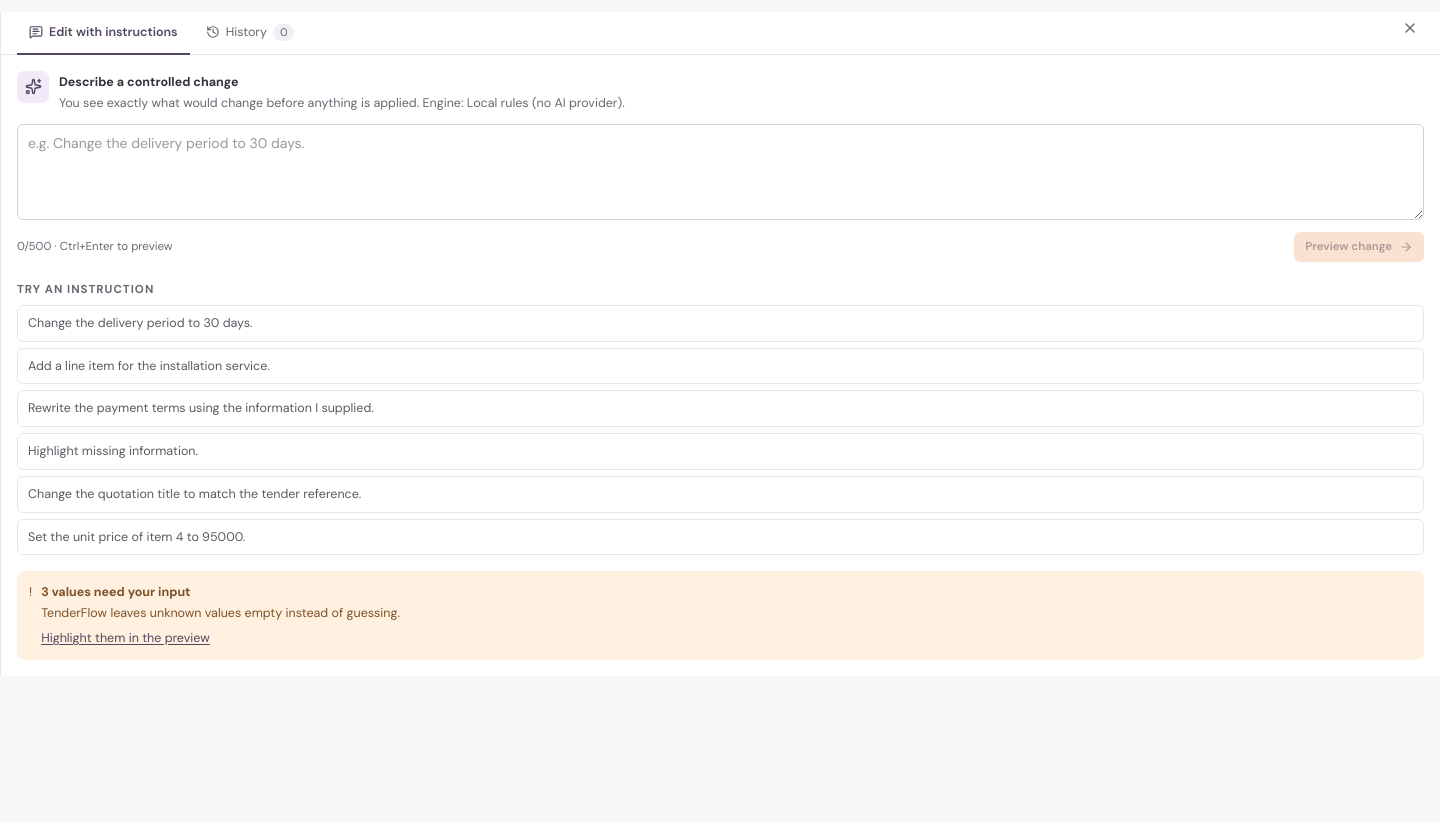
Test: InstructionPanel › offers the supported example instructions when nothing is pending
The image size is (1440, 822).
Click the button "Change the delivery period to 30 days.". click: (140, 323)
box: [17,305,1424,342]
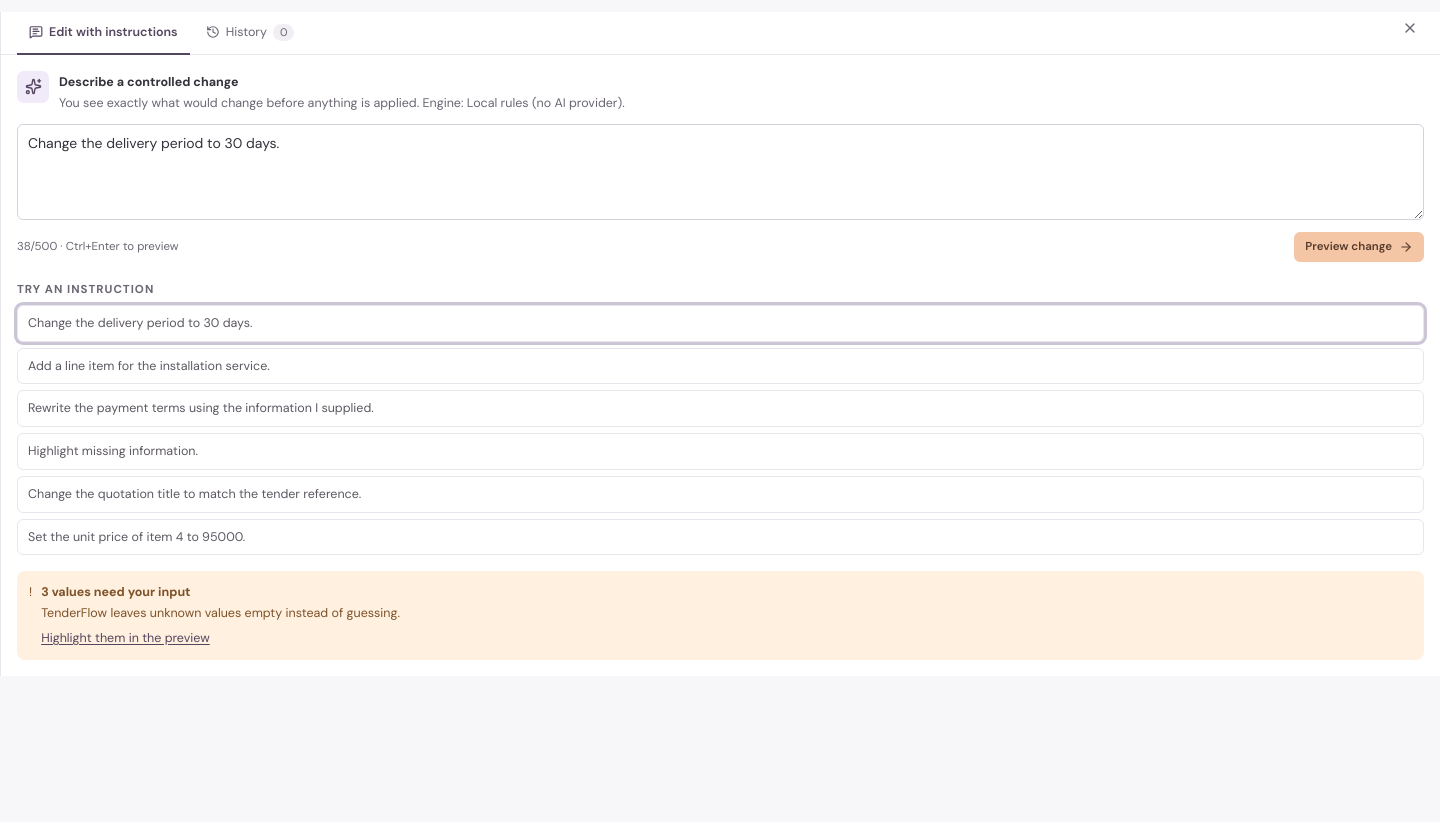
Expected: the text "3 values need your input" is shown, [41,584,190,600]
Result: the text box named "Instruction" holds "Change the delivery period to 30 days." at [17,124,1424,220]
